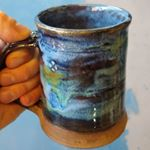cups: (32, 1, 135, 147)
